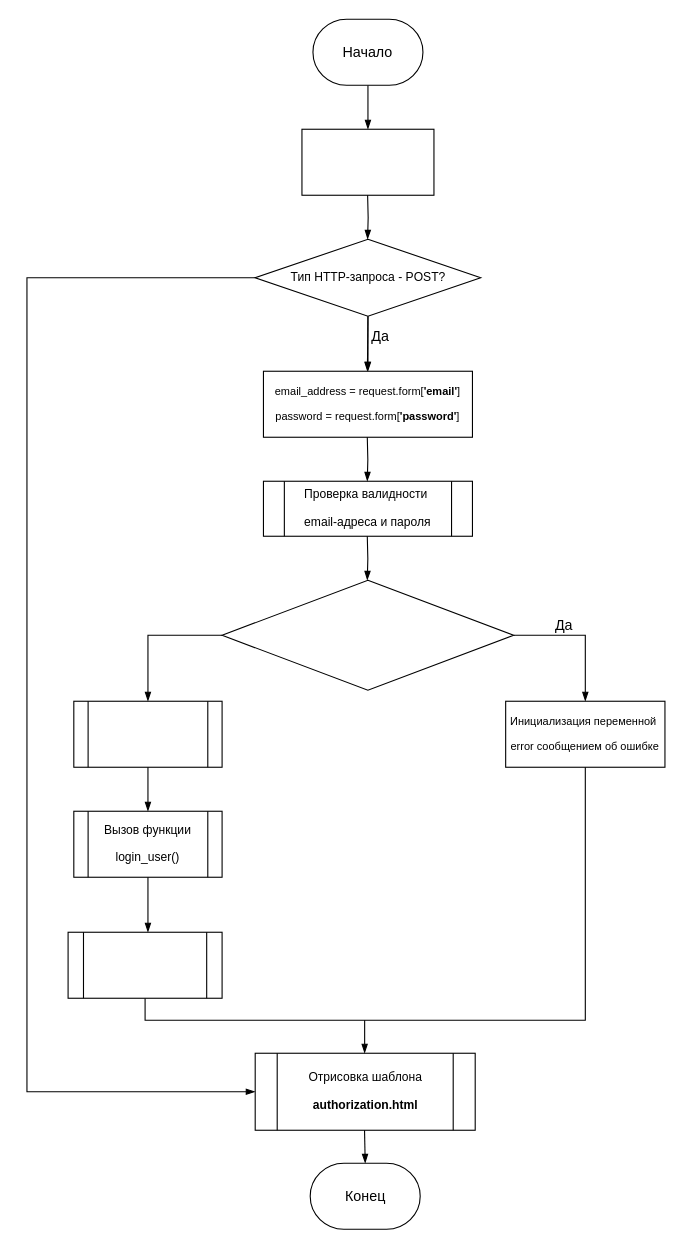
Image size: 684x1249. Some labels were removed from this diagram. The centre of each missing label's shape, as x and y in pixels:
"error = None" belongs at (367,161).
"flash( 'Авторизация успешна' )" belongs at (147,733).
"Перенаправление на главную страницу" belongs at (144,964).
"Статус-код проверки не равен SIGNIN_SUCCESS?" belongs at (367,634).
